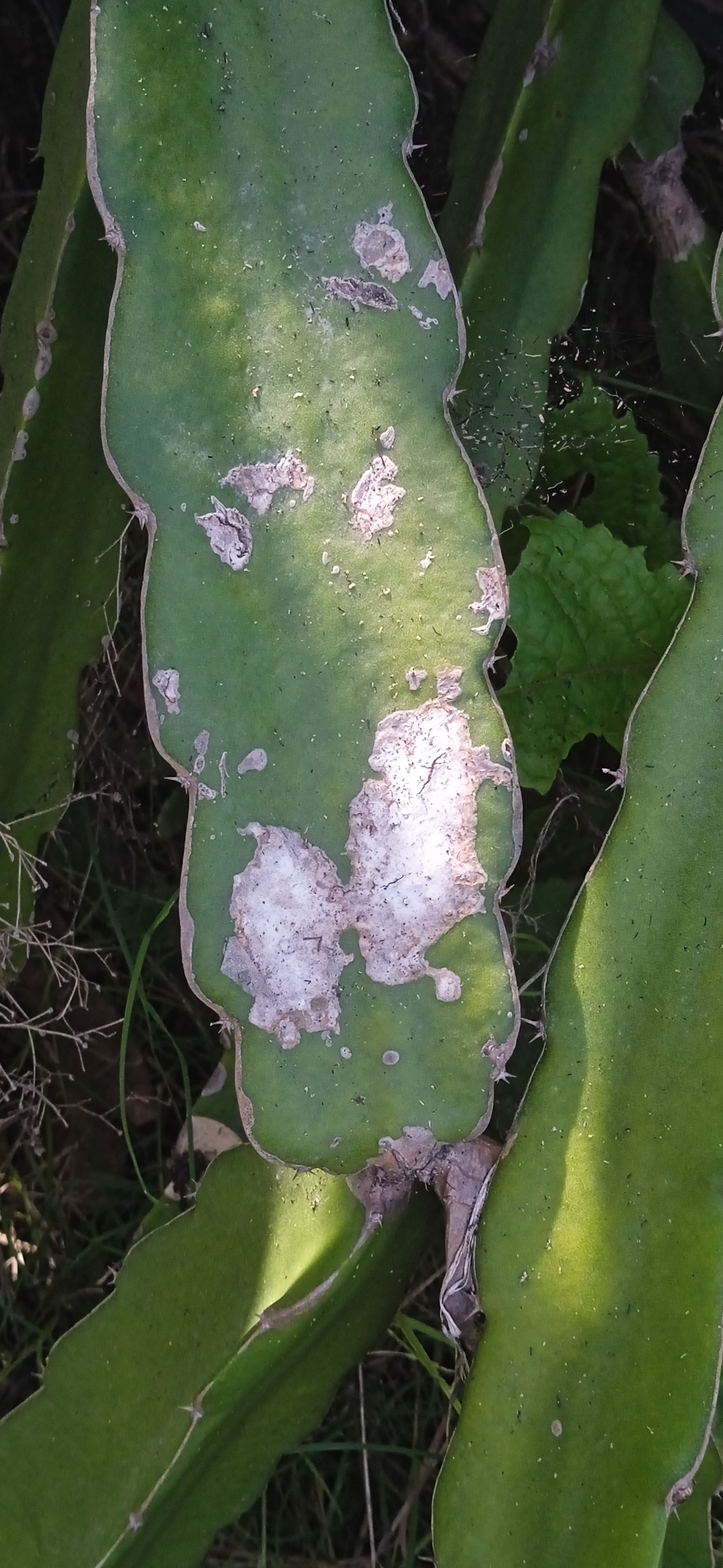stemcanker: (74, 2, 532, 1206)
